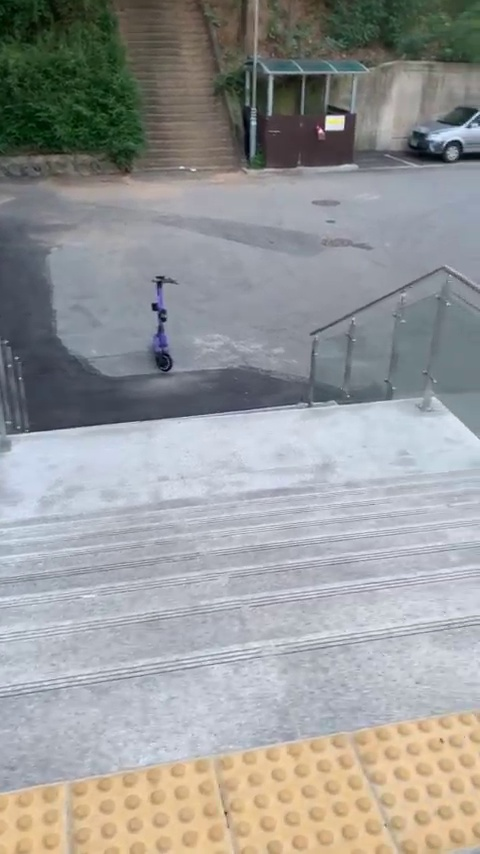beam: (140, 266, 185, 382)
